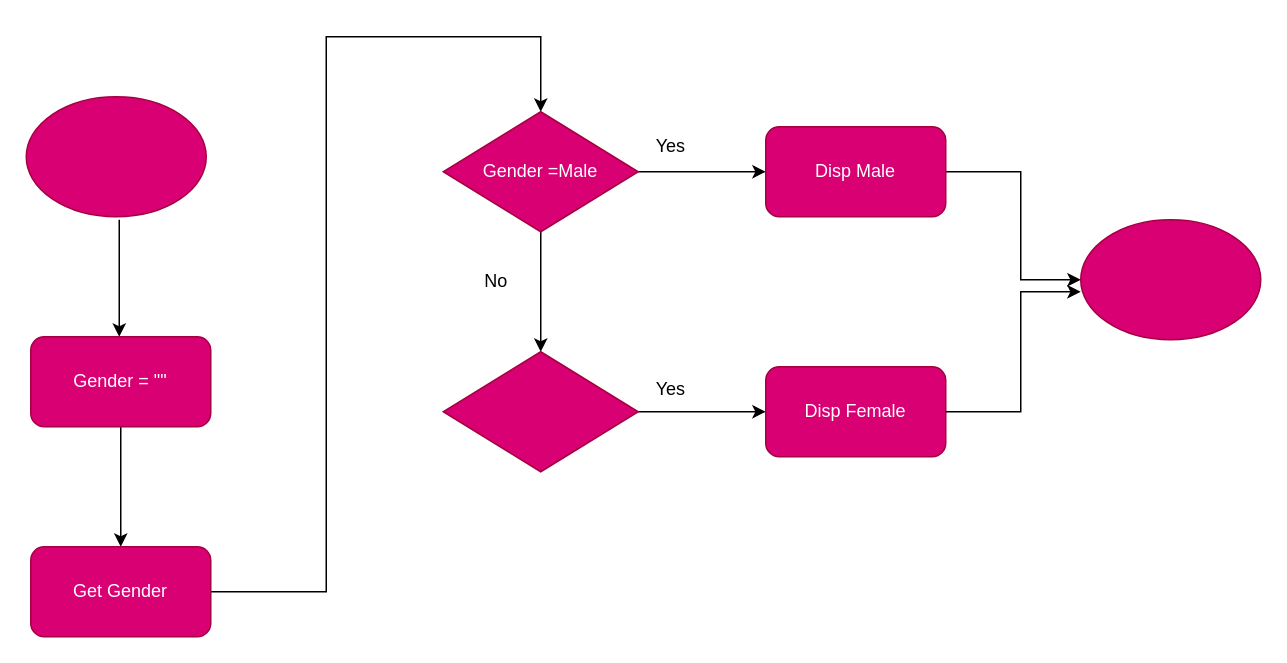
The diagram is 1287 pixels wide and 663 high, and some of its shapes have lost their labels. The centre of each missing label's shape, as x and y in pixels:
"End" goes at [1170,279].
"Gender =Female" goes at [540,411].
"Start" goes at [115,156].
